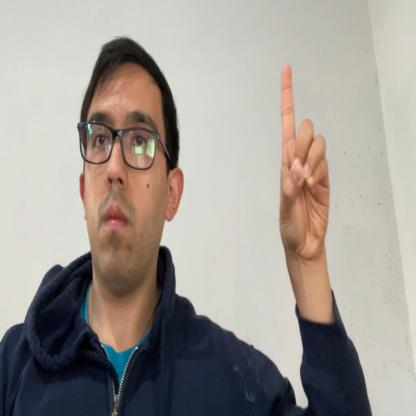D: (280, 62, 331, 260)
